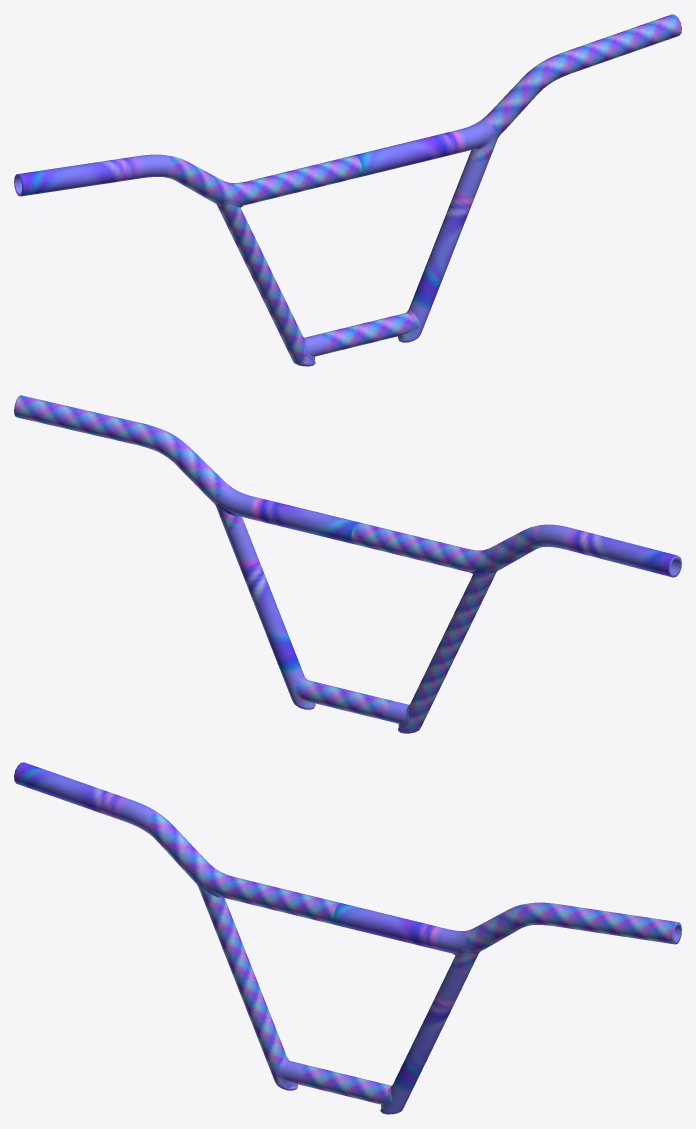
File: BMX_Bars_Destruction_Kaboom.fbx
3 views of the same model, one above another, from view 1: azimuth 30°, elevation 25°; view 2: azimuth 150°, elevation 25°; view 3: azimuth 330°, elevation 25° (orthographic).
Visible parts, largest first — view 1: BMX_Bars_Destruction_Kaboom; view 2: BMX_Bars_Destruction_Kaboom; view 3: BMX_Bars_Destruction_Kaboom.
Part boxes in pixels (x1,y1,x2,y2): BMX_Bars_Destruction_Kaboom: [14, 14, 681, 366]; BMX_Bars_Destruction_Kaboom: [14, 395, 681, 733]; BMX_Bars_Destruction_Kaboom: [14, 762, 681, 1114].
Bounding box in the file's own units: 73.39 × 26.63 × 4.01.
1 material, 1 textured.
